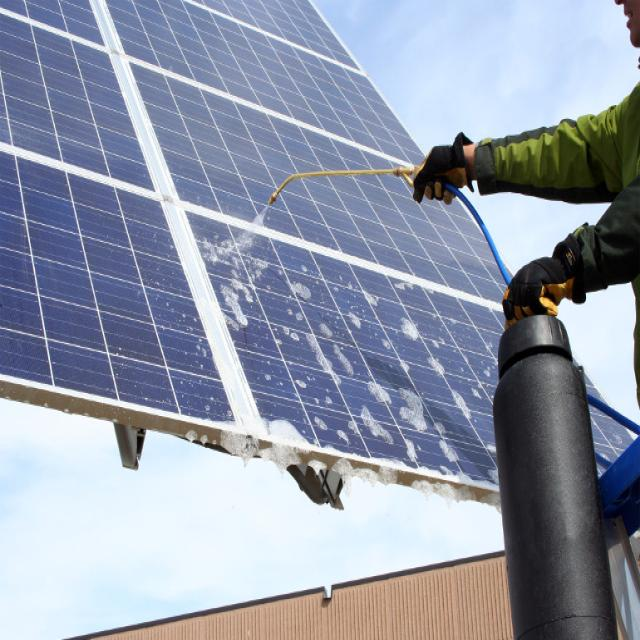dust-solar-panel: (175, 208, 511, 485)
